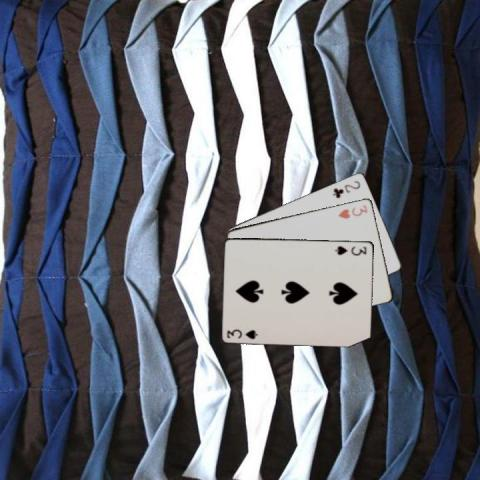2c: (330, 178, 362, 199)
3h: (335, 202, 369, 220)
3s: (224, 326, 259, 340), (333, 243, 368, 256)
